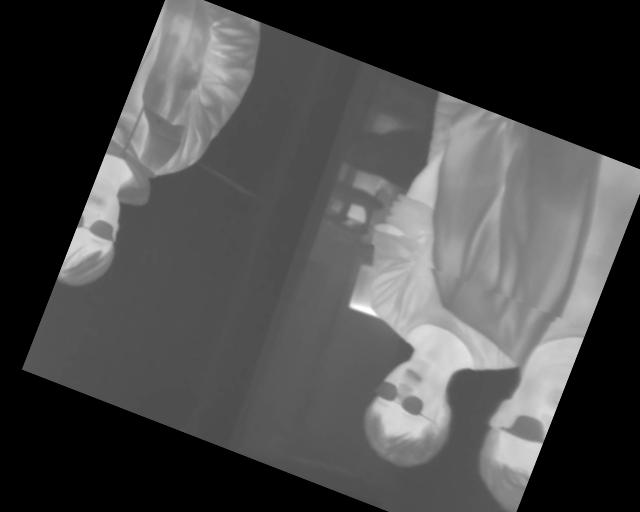face: (347, 349, 469, 482), (56, 183, 135, 297)
